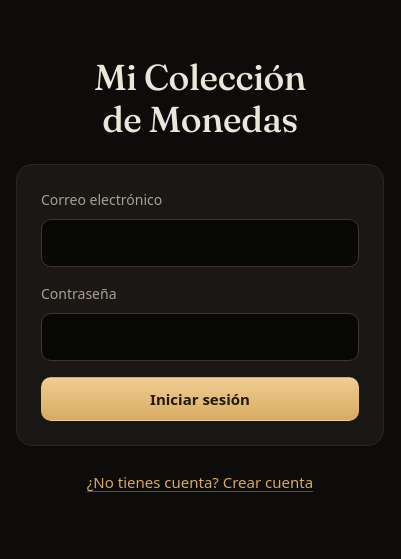
Test: signUp sin sesión (confirmación de correo pendiente) muestra aviso explícito
Click the button "¿No tienes cuenta? Crear cuenta" at (200, 483), box x1=87 y1=471 x2=313 y2=494
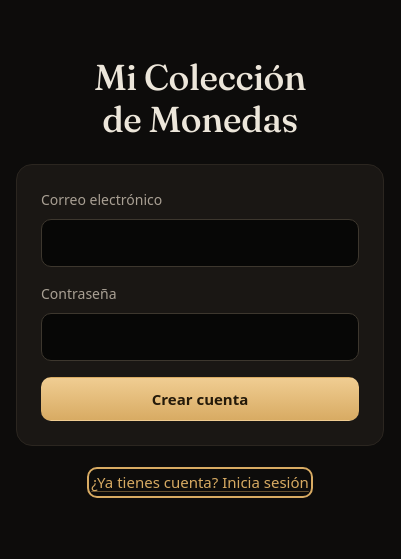
Type "nueva@ejemplo.cl" into the field labelled "Correo electrónico" at (200, 243), box x1=41 y1=219 x2=359 y2=267
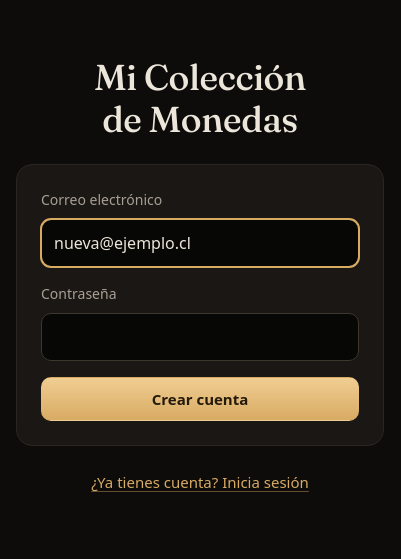
Type "secreta123" into the password field labelled "Contraseña" at (200, 337), box x1=41 y1=313 x2=359 y2=361
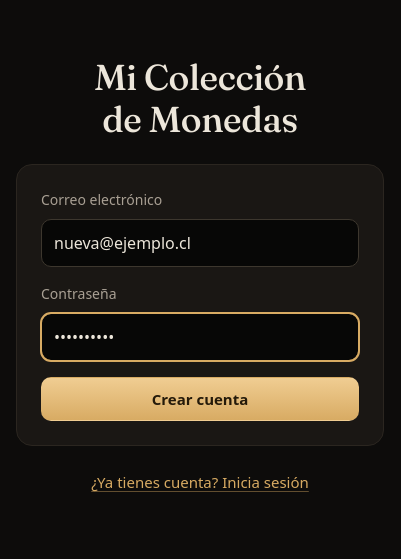
Click the button "Crear cuenta" at (200, 399), box x1=41 y1=377 x2=359 y2=421
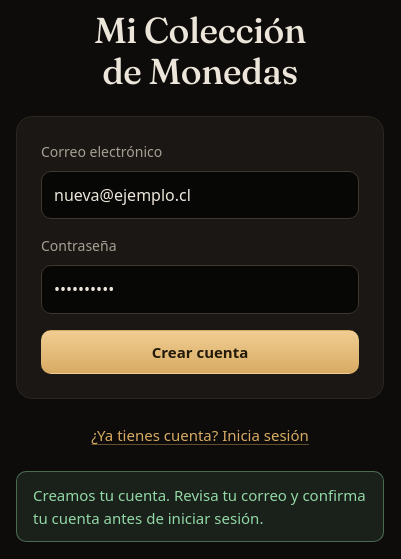
Expected: the message shows "confirma tu cuenta", x1=33 y1=485 x2=366 y2=528
